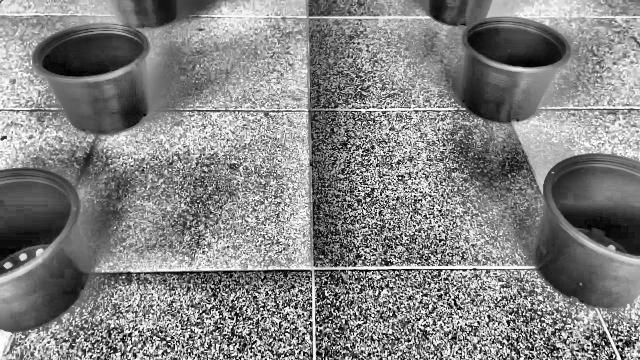pot: (532, 154, 640, 310), (0, 168, 86, 334), (32, 24, 150, 136), (459, 17, 571, 124)
